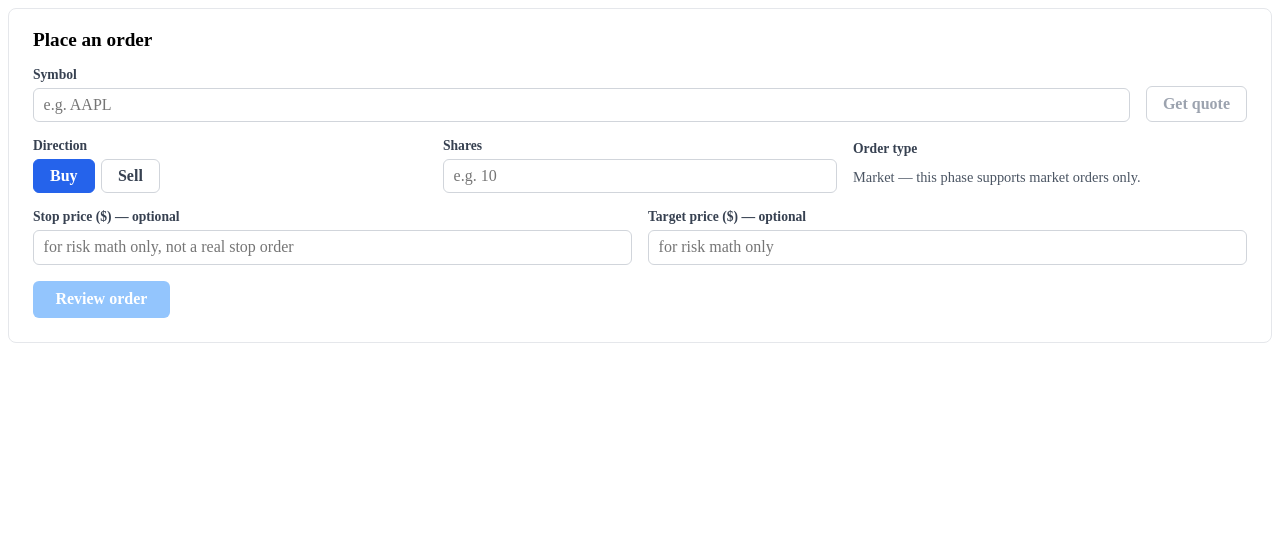
Test: OrderForm stop-price validation (buy only) › rejects a stop of -5 with the expected message
The width and height of the screenshot is (1280, 559).
Type "AAPL" into the field labelled "Symbol" at (581, 105), box [33,88,1130,122]
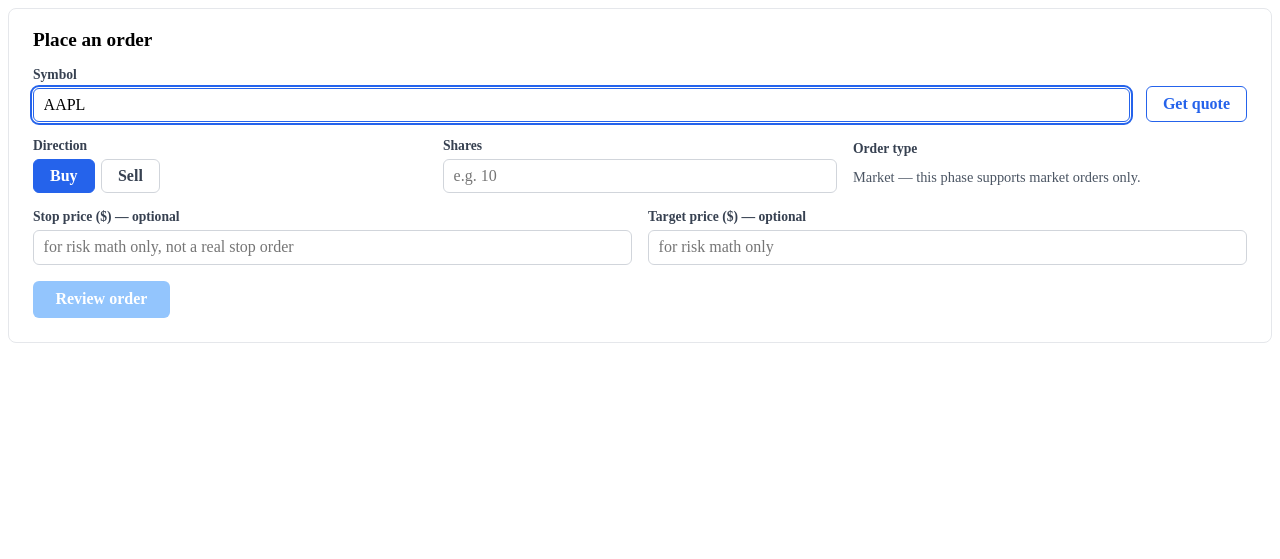
Click the button "Get quote" at (1196, 104), box [1146,86,1247,122]
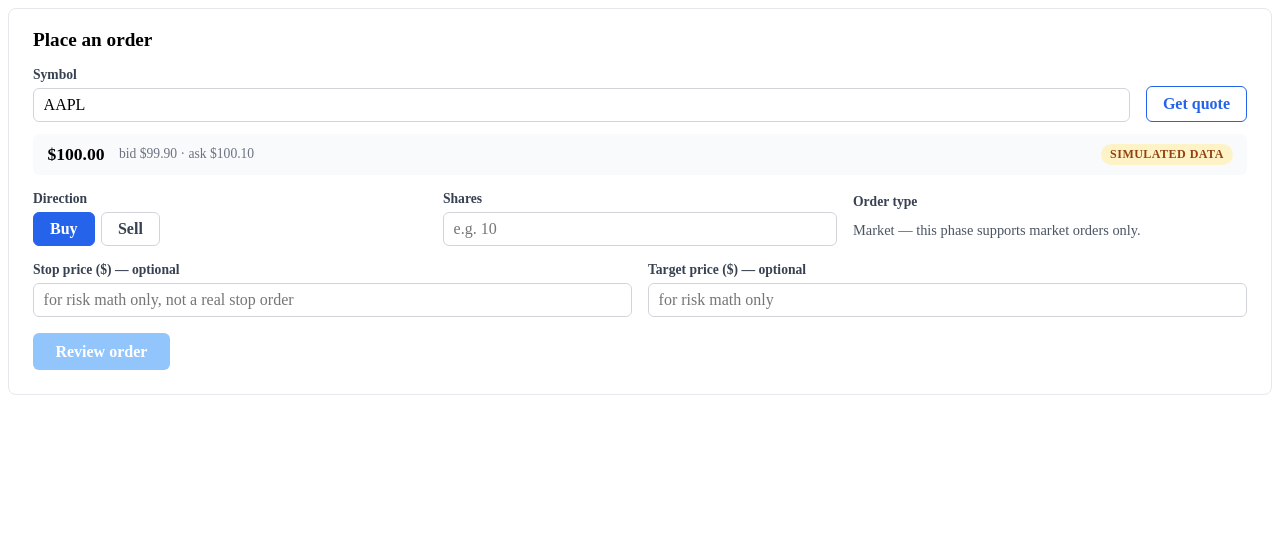
Expected: the text "bid $99.90 · ask $100.10" is shown, [119,146,254,162]
Type "10" into the field labelled "Shares" at (640, 229), box [443,212,837,246]
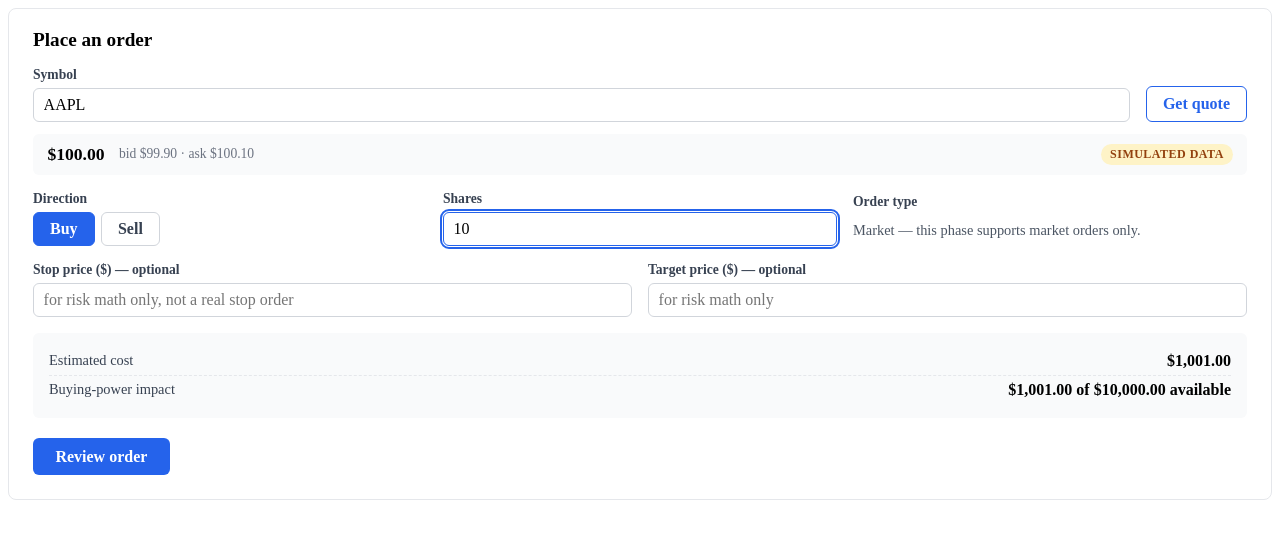
Type "-5" into the field labelled "Stop price ($) — optional" at (332, 300), box [33,283,632,317]
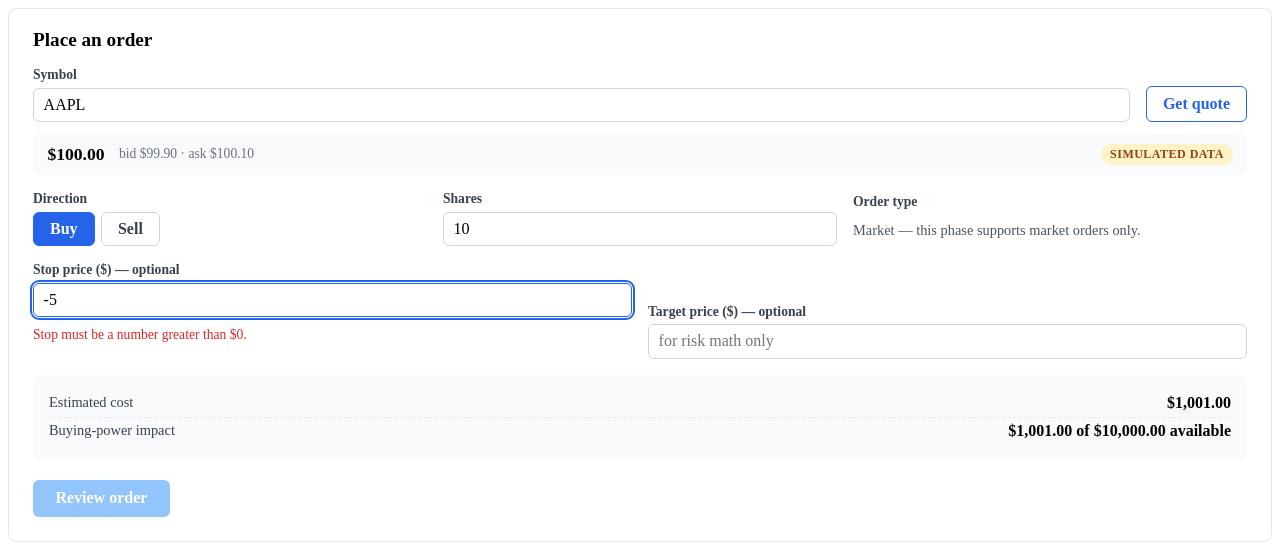
Expected: the text "Stop must be a number greater than $0." is shown, [33,327,247,342]
Expected: the button "Review order" is disabled, [33,480,170,517]
